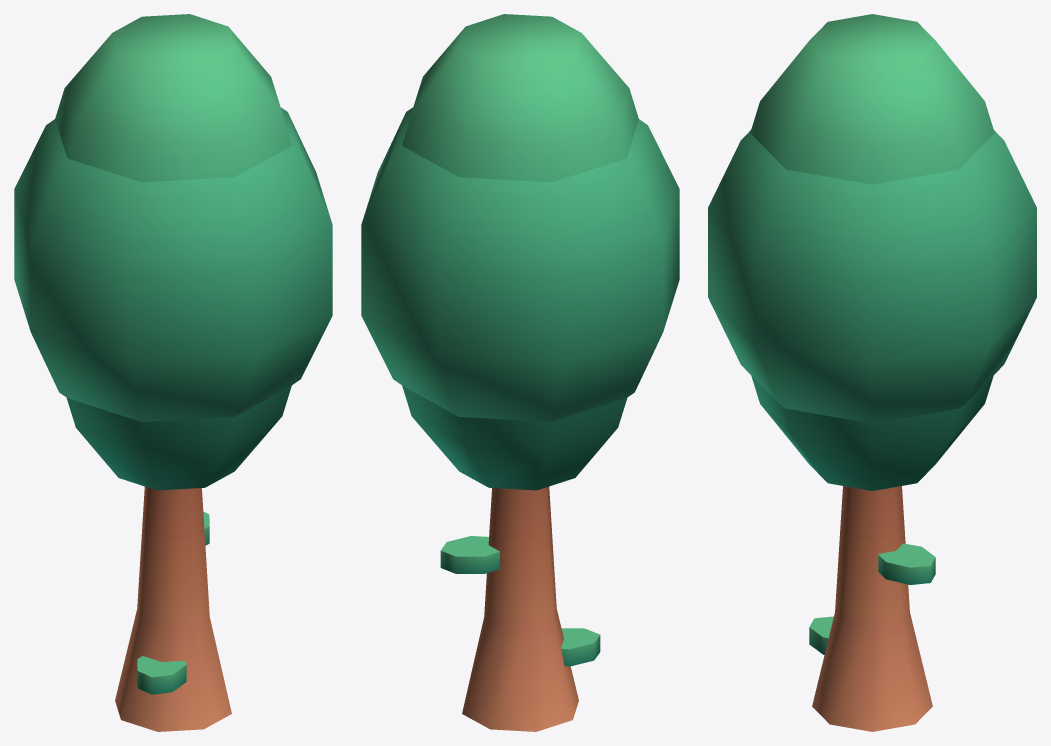
File: kenney-coaster-tree-large.glb
3 renders of one model, left to right at view 1: azimuth 30°, elevation 25°; view 2: azimuth 150°, elevation 25°; view 3: azimuth 270°, elevation 25°, orthographic.
Parts seen in each view (by area): view 1: tree-large; view 2: tree-large; view 3: tree-large.
Boxes of the visible parts, x1,y1,x2,y2 form: tree-large: (14,14,332,731); tree-large: (361,14,679,731); tree-large: (708,14,1036,731).
Size of the model in its own units: 0.8774 by 1.96 by 0.8774.
Materials: 1 (1 with a texture image).
